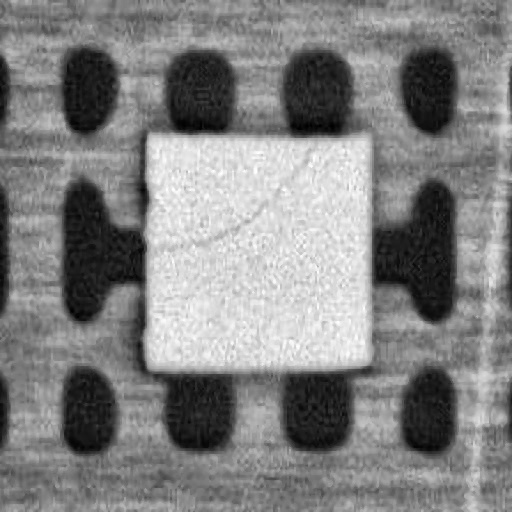DIE_CRACK: (147, 138, 310, 247)
